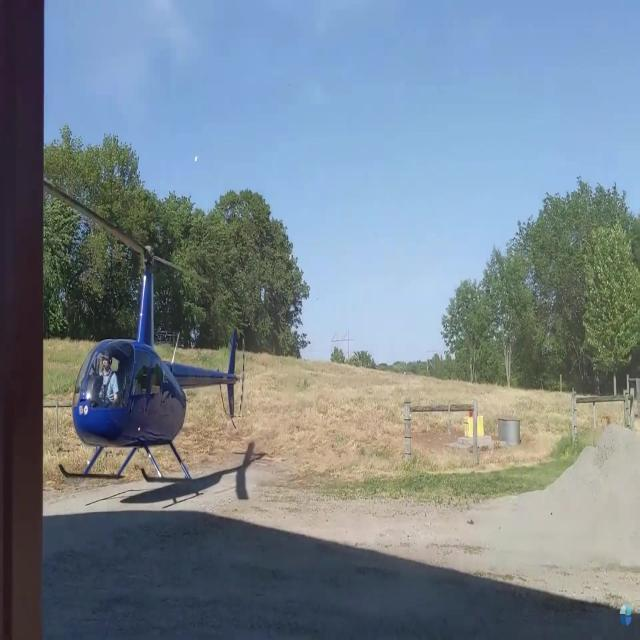CIV_HELO: (58, 242, 240, 488)
